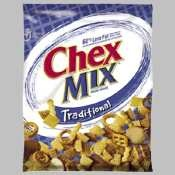grozi_2: (21, 4, 154, 172)
